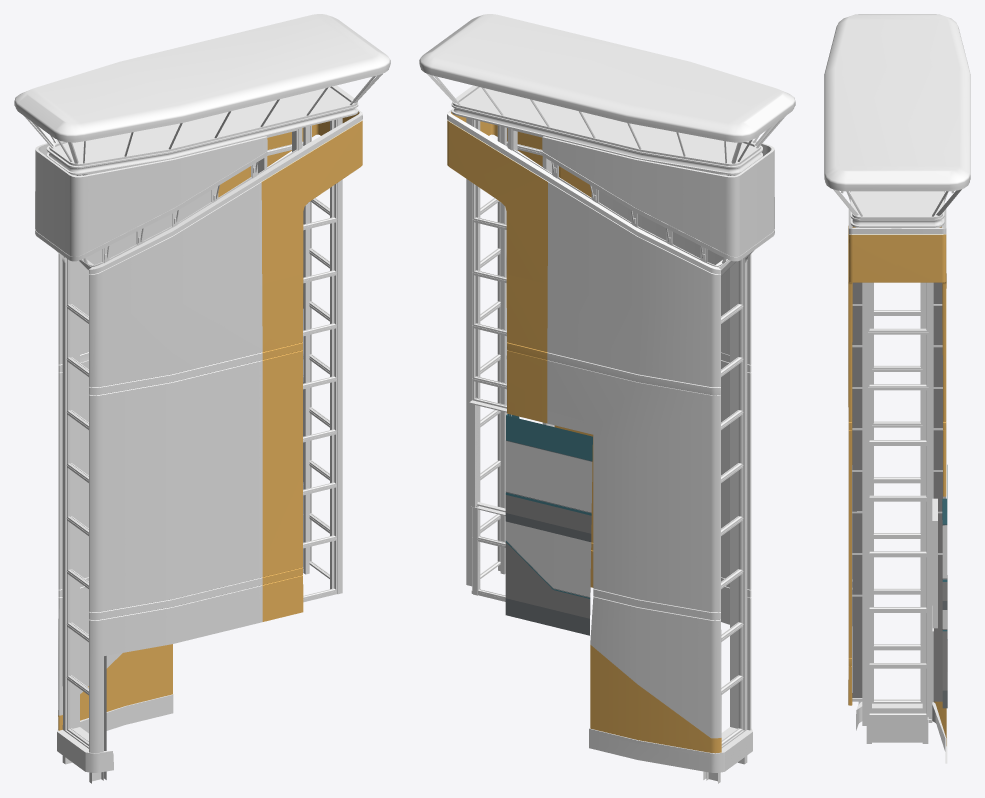
3 views of the same model, side by side, from view 1: azimuth 30°, elevation 25°; view 2: azimuth 150°, elevation 25°; view 3: azimuth 270°, elevation 25° (orthographic). The views are drawn at different scales.
Visible parts, largest first — view 1: SM_H_Building_FutureTech_WatchTower_01c; view 2: SM_H_Building_FutureTech_WatchTower_01c; view 3: SM_H_Building_FutureTech_WatchTower_01c.
Boxes of the visible parts, x1,y1,x2,y2 form: SM_H_Building_FutureTech_WatchTower_01c: (14,14,390,783); SM_H_Building_FutureTech_WatchTower_01c: (419,14,795,783); SM_H_Building_FutureTech_WatchTower_01c: (824,14,970,763).
Bounding box in the file's own units: 246 × 667 × 1307.
